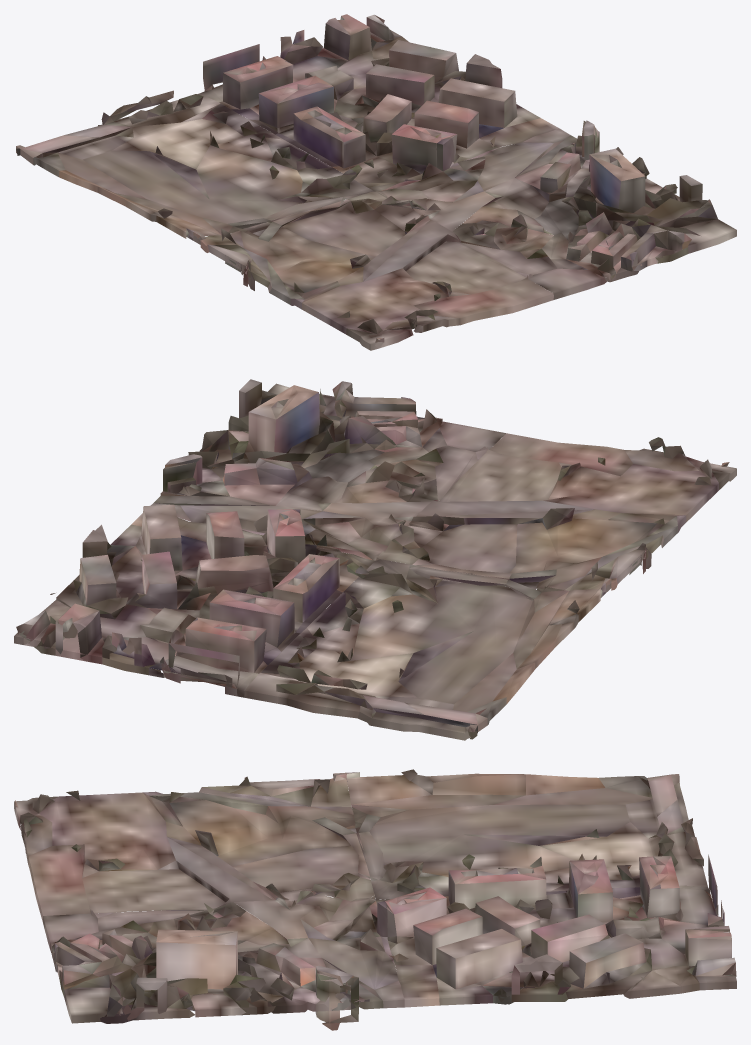
3 views of the same model, one above another, from view 1: azimuth 30°, elevation 25°; view 2: azimuth 150°, elevation 25°; view 3: azimuth 270°, elevation 25° (orthographic). The views are drawn at different scales.
Visible parts, largest first — view 1: Mesh_0; view 2: Mesh_0; view 3: Mesh_0.
Boxes of the visible parts, x1,y1,x2,y2 form: Mesh_0: (16,14,736,350); Mesh_0: (14,379,736,740); Mesh_0: (14,769,736,1030).
Bounding box in the file's own units: 535 × 74.4 × 659.
Materials: 2 (2 with a texture image).
